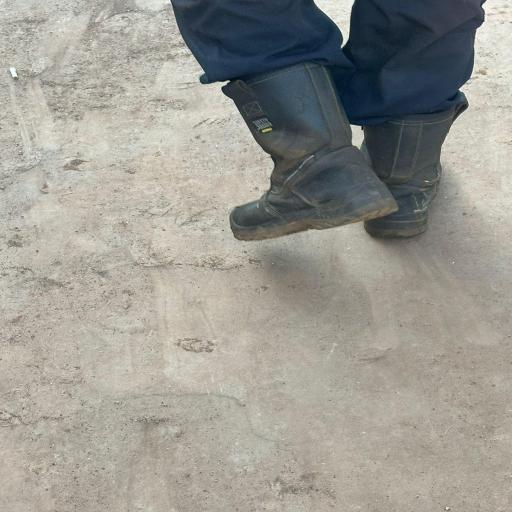Safety-shoes: (192, 61, 396, 242), (361, 106, 467, 237)
